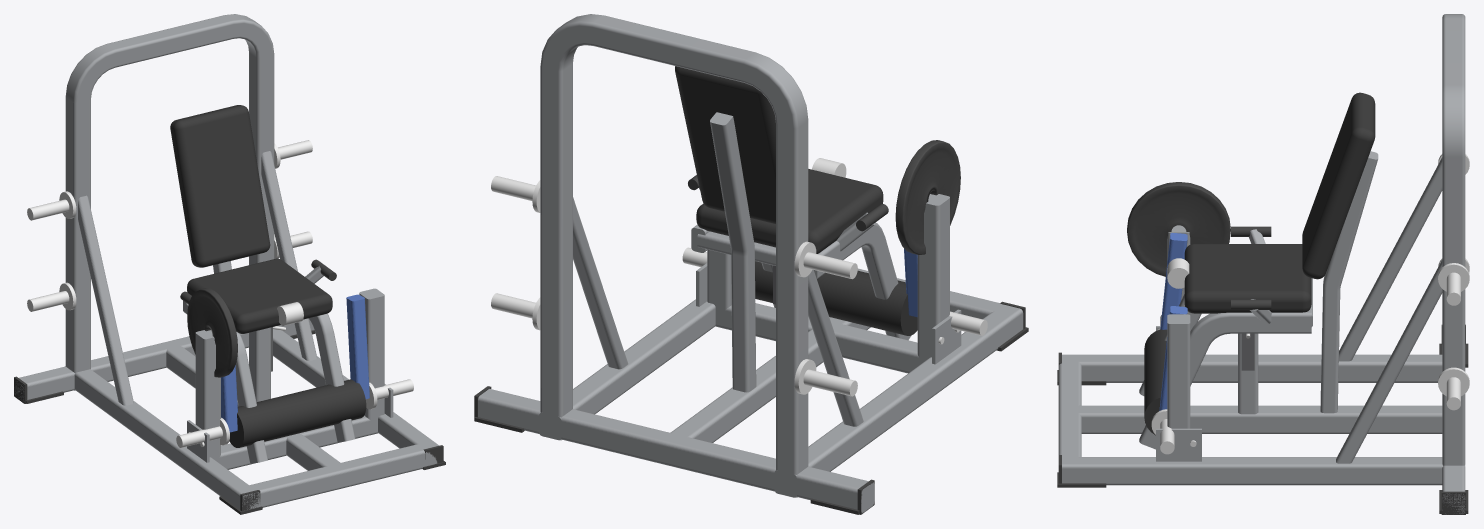
3 views of the same model, side by side, from view 1: azimuth 30°, elevation 25°; view 2: azimuth 150°, elevation 25°; view 3: azimuth 270°, elevation 25° (orthographic). The views are drawn at different scales.
Parts seen in each view (by area): view 1: base, mast_tube, backrest_pad, lever_support, seat_pad, frame, lever_roller, seat_rail_tube (×2), lever_cam, lever_bar (×2), storage_horn (×3), seat_post (+3 smaller); view 2: mast_tube, base, lever_support, backrest_pad, backrest_support_tube, frame, seat_pad, lever_roller, storage_horn (×4), lever_cam, seat_rail_tube, seat_frame (+4 smaller); view 3: base, mast_tube, seat_pad, frame, backrest_pad, lever_cam, backrest_support_tube, seat_rail_tube, lever_support, storage_horn (×2), lever_roller, lever_bar (×2) (+7 smaller).
Boxes of the visible parts, bbox=[...] form: base: bbox=[14, 319, 438, 509]; mast_tube: bbox=[65, 14, 274, 390]; backrest_pad: bbox=[170, 105, 270, 267]; lever_support: bbox=[195, 288, 384, 469]; seat_pad: bbox=[187, 258, 332, 333]; frame: bbox=[78, 151, 317, 405]; lever_roller: bbox=[229, 379, 366, 447]; seat_rail_tube (×2): bbox=[183, 301, 355, 463]; lever_cam: bbox=[187, 288, 237, 377]; lever_bar (×2): bbox=[221, 294, 369, 432]; storage_horn (×3): bbox=[27, 140, 312, 311]; seat_post: bbox=[249, 327, 270, 402]; mast_tube: bbox=[540, 14, 808, 497]; base: bbox=[478, 268, 1023, 512]; lever_support: bbox=[707, 194, 949, 373]; backrest_pad: bbox=[675, 66, 775, 223]; backrest_support_tube: bbox=[710, 112, 756, 392]; frame: bbox=[573, 197, 863, 426]; seat_pad: bbox=[696, 169, 883, 253]; lever_roller: bbox=[755, 261, 917, 335]; storage_horn (×4): bbox=[491, 176, 857, 396]; lever_cam: bbox=[895, 140, 960, 254]; seat_rail_tube: bbox=[814, 222, 911, 340]; seat_frame: bbox=[697, 231, 775, 265]; base: bbox=[1058, 354, 1465, 514]; mast_tube: bbox=[1442, 14, 1465, 465]; seat_pad: bbox=[1184, 244, 1311, 313]; frame: bbox=[1336, 157, 1442, 463]; backrest_pad: bbox=[1302, 92, 1375, 279]; lever_cam: bbox=[1127, 182, 1230, 276]; backrest_support_tube: bbox=[1320, 151, 1378, 413]; seat_rail_tube: bbox=[1139, 309, 1311, 449]; lever_support: bbox=[1167, 225, 1190, 428]; storage_horn (×2): bbox=[1438, 263, 1469, 410]; lever_roller: bbox=[1144, 329, 1167, 435]; lever_bar (×2): bbox=[1159, 233, 1187, 410].
Bounding box in the file's own units: 1.38 × 1.45 × 1.43.
